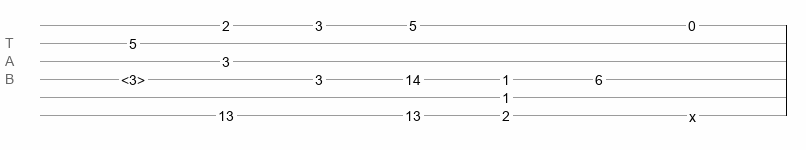0: (688, 18, 696, 28)
1: (502, 72, 510, 82), (502, 90, 510, 100)
13: (218, 108, 234, 118), (405, 108, 421, 118)
14: (405, 72, 421, 82)
2: (222, 18, 230, 28), (502, 108, 510, 118)
3: (222, 54, 230, 64), (315, 18, 323, 28), (315, 72, 323, 82)
5: (129, 36, 137, 46), (409, 18, 417, 28)
6: (595, 72, 603, 82)
harmonic: (121, 72, 145, 82)
x: (689, 109, 696, 117)
